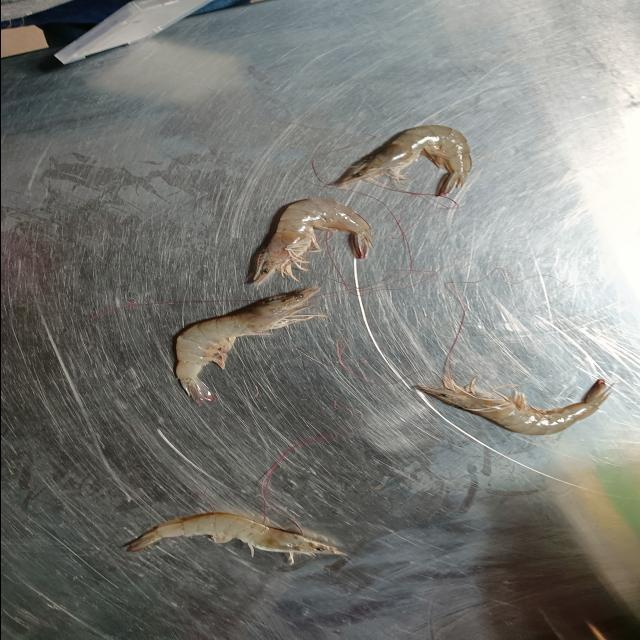shrimp: (175, 286, 326, 404), (126, 512, 343, 564), (414, 378, 607, 435), (253, 199, 372, 285), (339, 125, 472, 196)
